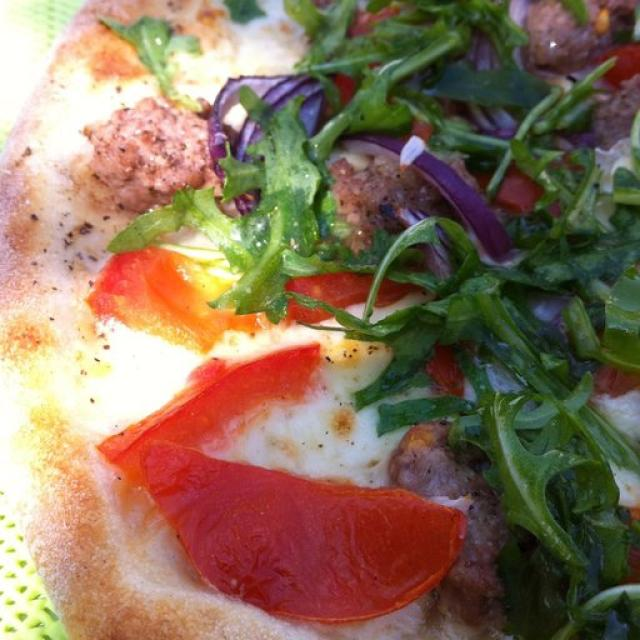Basil: (489, 397, 636, 640), (357, 232, 551, 382), (114, 208, 300, 314), (336, 0, 461, 139), (466, 7, 588, 145), (569, 173, 640, 365), (234, 98, 322, 212), (104, 10, 208, 103)
Beef: (92, 106, 206, 210), (335, 165, 415, 242), (527, 2, 598, 64), (460, 522, 510, 600), (416, 453, 488, 500), (579, 91, 640, 143)
Onions: (210, 73, 328, 217), (410, 147, 515, 257), (475, 108, 521, 136)
Pizza: (0, 0, 640, 640)
Tomato: (100, 346, 462, 624), (88, 259, 212, 340), (289, 282, 412, 326), (492, 175, 543, 210), (596, 45, 640, 82)
